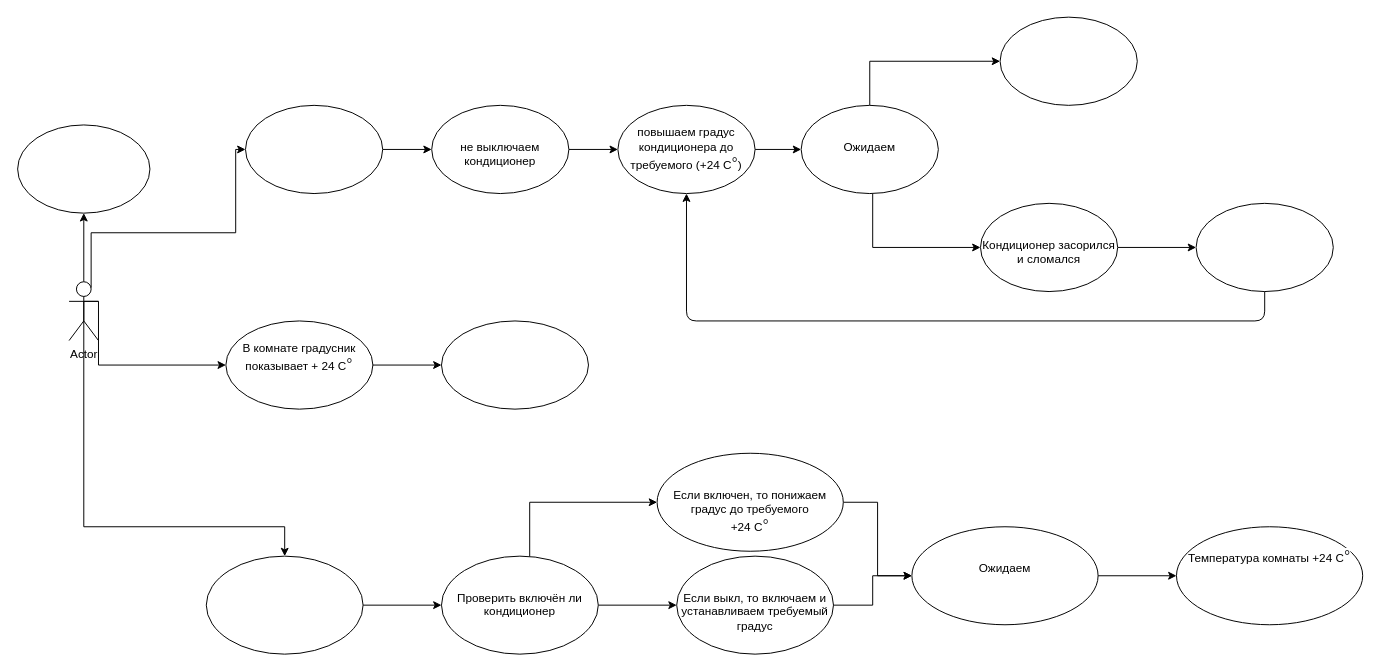
The diagram is 1380 pixels wide and 671 high, and some of its shapes have lost their labels. The box of each missing label's shape, as (x1, y1, x2, y2) in pixels:
В комнате градусник показывает больше требуемого градуса: (205, 555, 363, 654)
В комнате градусник показывает меньше требуемого градуса: (245, 104, 383, 194)
Вызываем мастера для ремонта: (1195, 202, 1333, 292)
выключаем кондиционер: (441, 320, 588, 409)
нужная температура +24 C ° в комнате: (17, 124, 150, 213)
Температура комнаты повысилась до +24 C °: (999, 16, 1137, 105)
